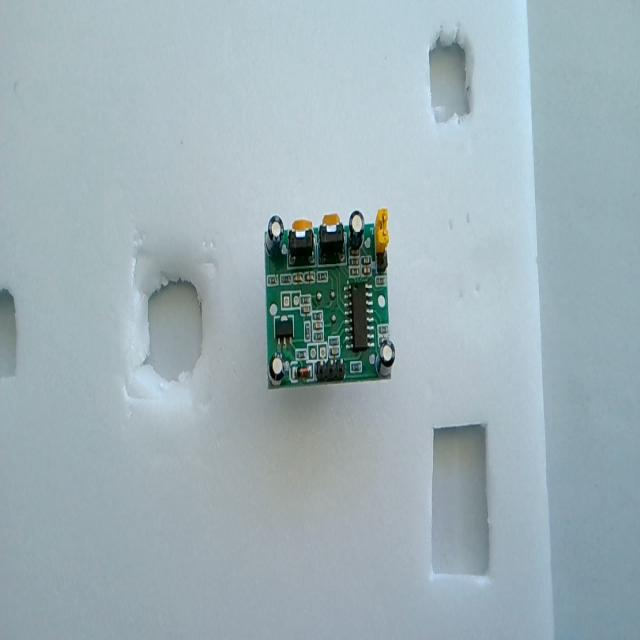Electrolytic capacitor: (266, 214, 284, 257), (348, 209, 366, 251), (377, 341, 395, 378), (269, 354, 284, 386)
IC: (345, 281, 374, 352)
pinheader: (316, 358, 344, 382)
